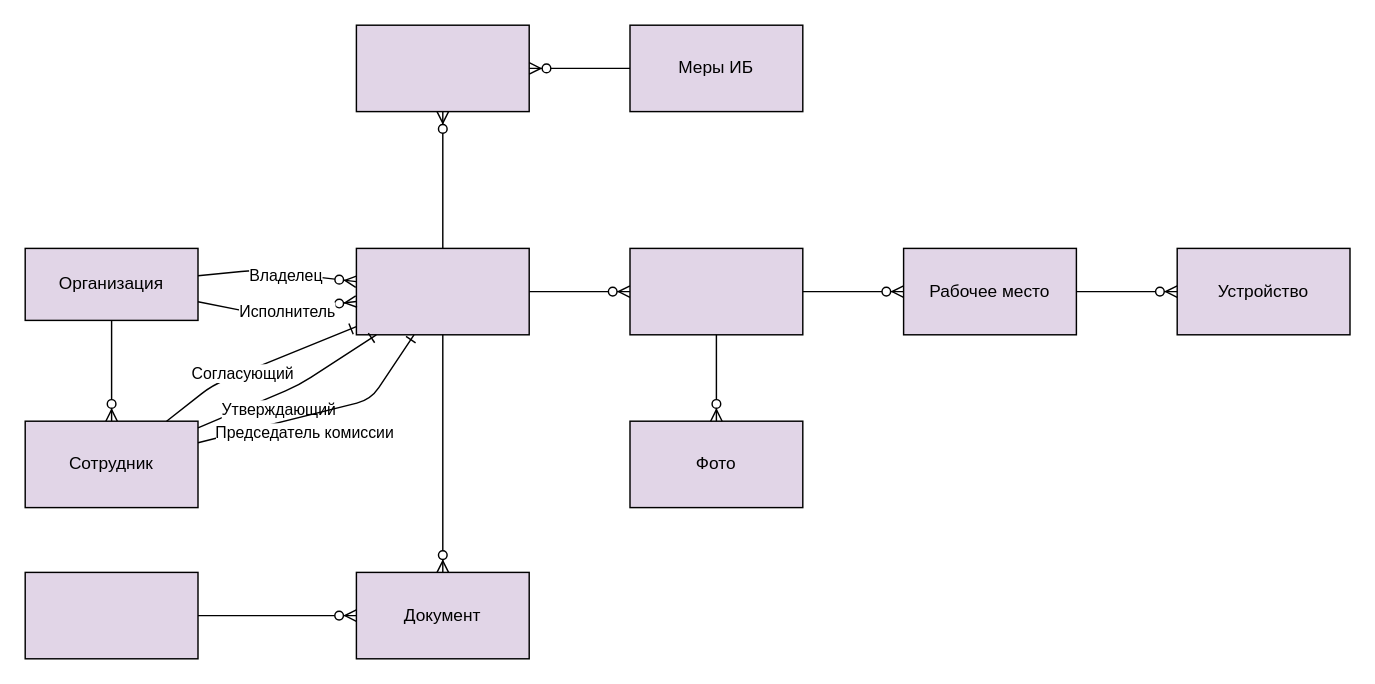
Some shapes in this 1375 by 684 pixel diagram are drawn without their labels. Each missing label, with the centre of its shape:
Адрес: pixel 716 291
Информационная система: pixel 442 291
Применимые меры: pixel 442 68
Шаблон документа: pixel 111 615
